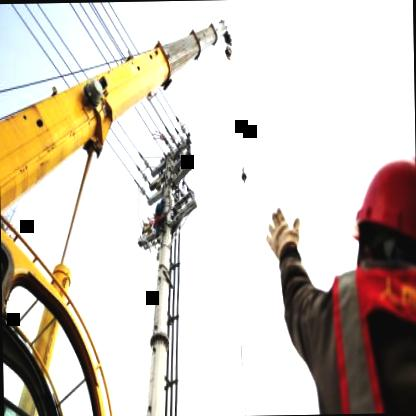helmet: (348, 144, 416, 301)
